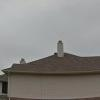Chimney: (50, 30, 68, 62)
